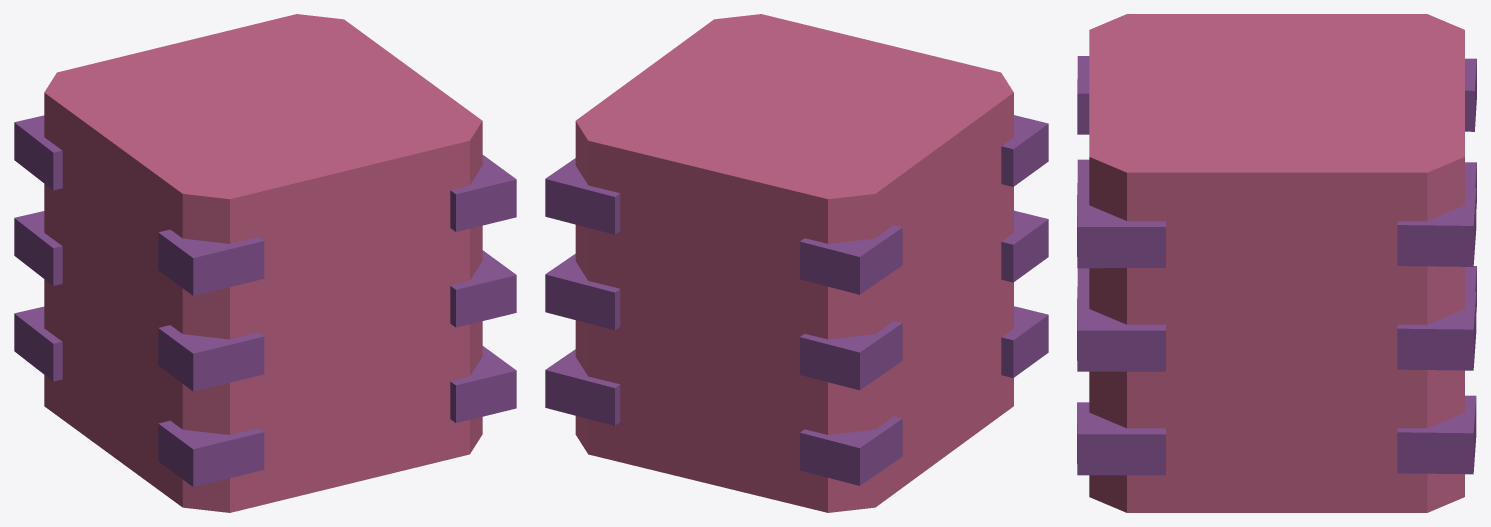
File: Generic Center PinkPurple.fbx
The picture shows the model from 3 angles, left to right: view 1: azimuth 30°, elevation 25°; view 2: azimuth 150°, elevation 25°; view 3: azimuth 270°, elevation 25°; orthographic projection. The views are drawn at different scales.
Visible parts, largest first — view 1: pCube16; view 2: pCube16; view 3: pCube16.
Boxes of the visible parts, x1,y1,x2,y2 form: pCube16: (14,14,516,512); pCube16: (545,14,1048,512); pCube16: (1077,14,1476,512).
Bounding box in the file's own units: 2.16 × 2 × 2.13.
